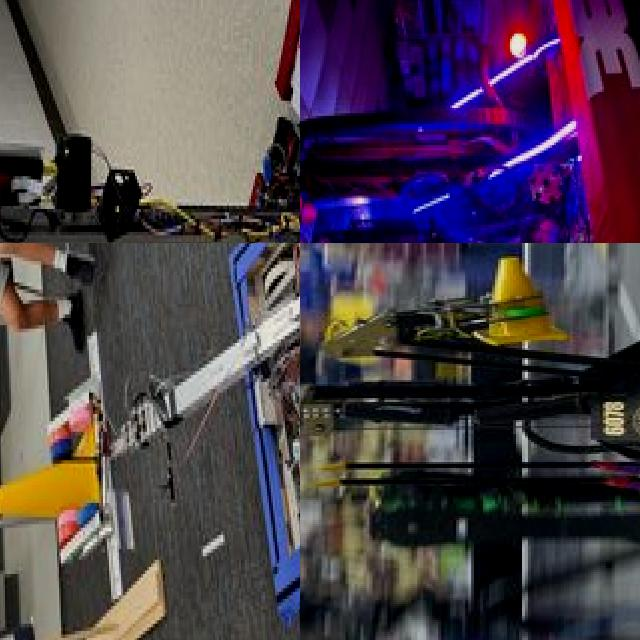FRC-Robots: (0, 243, 300, 640), (300, 0, 640, 243), (0, 0, 300, 243), (329, 265, 640, 499), (347, 503, 640, 601)
